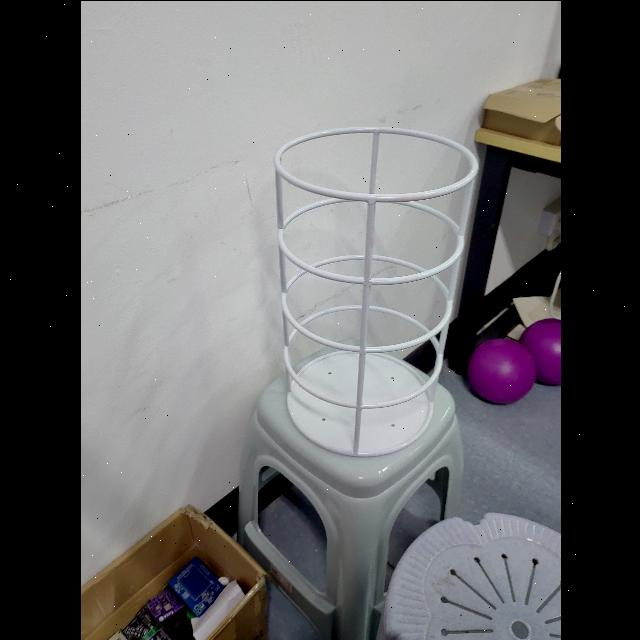S: (271, 122, 483, 460)
